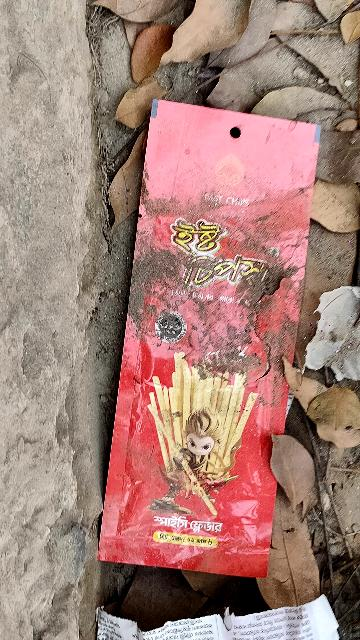packet: (127, 95, 274, 564)
